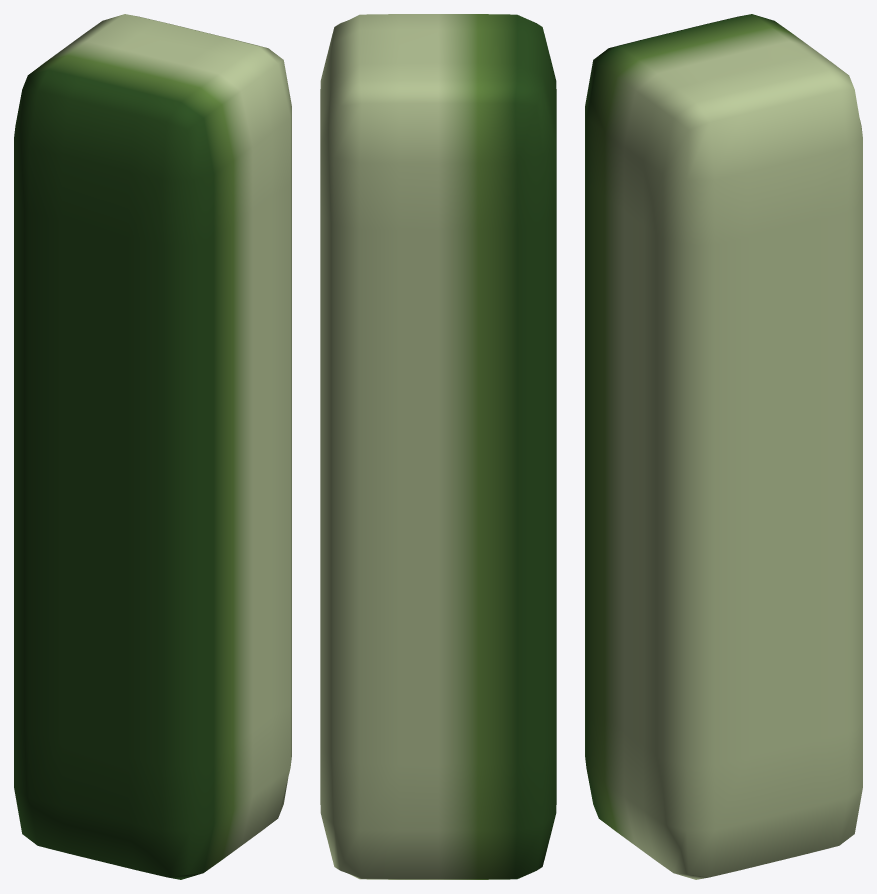
The model's file is cucumber.glb.
3 renders of one model, left to right at view 1: azimuth 30°, elevation 25°; view 2: azimuth 150°, elevation 25°; view 3: azimuth 270°, elevation 25°, orthographic. The views are drawn at different scales.
Visible parts, largest first — view 1: cucumber-1; view 2: cucumber-1; view 3: cucumber-1.
Part boxes in pixels (<box>): cucumber-1: <box>14,14,291,879</box>; cucumber-1: <box>320,14,556,879</box>; cucumber-1: <box>585,14,862,879</box>.
Bounding box in the file's own units: 0.0362 × 0.112 × 0.0362.
